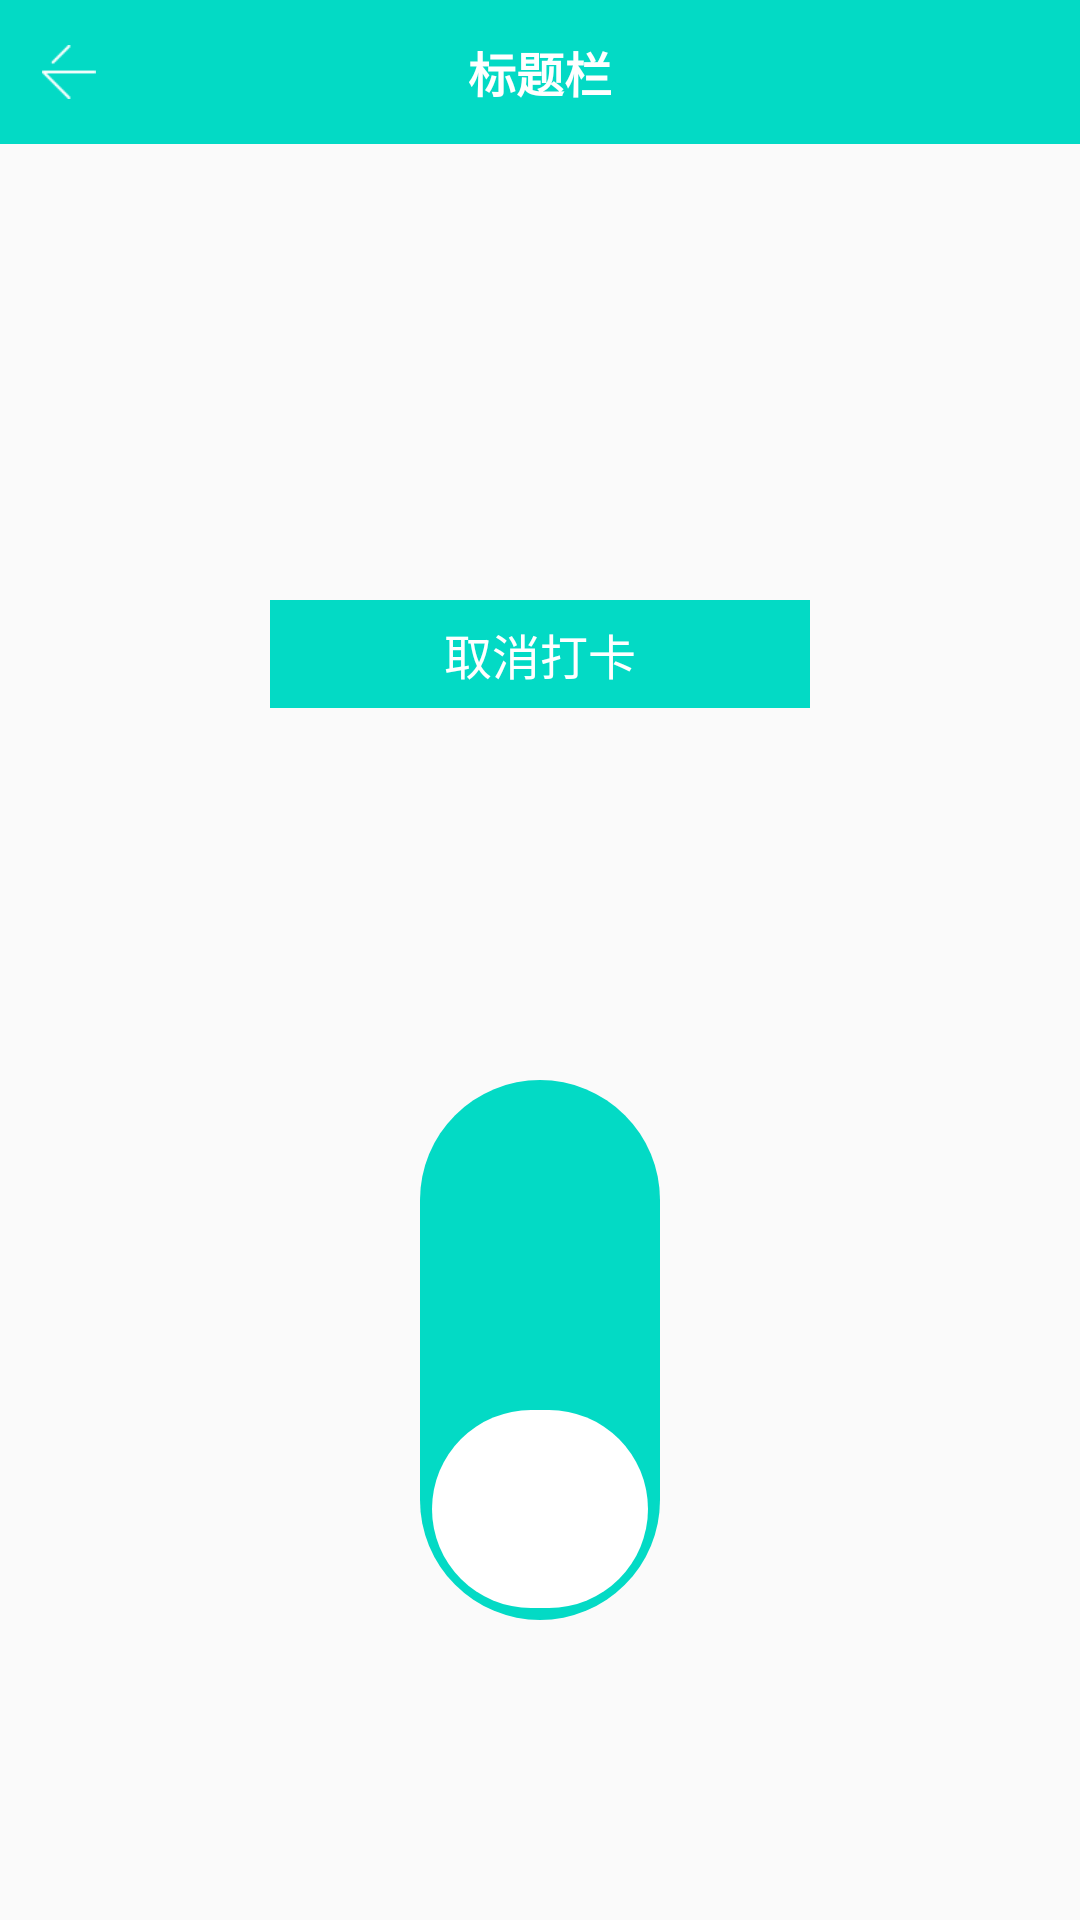

Icons on this 1080px x 1920px Android screen, each with its box as [x1,y1,x2,y2]:
base back: [42,45,96,99]
